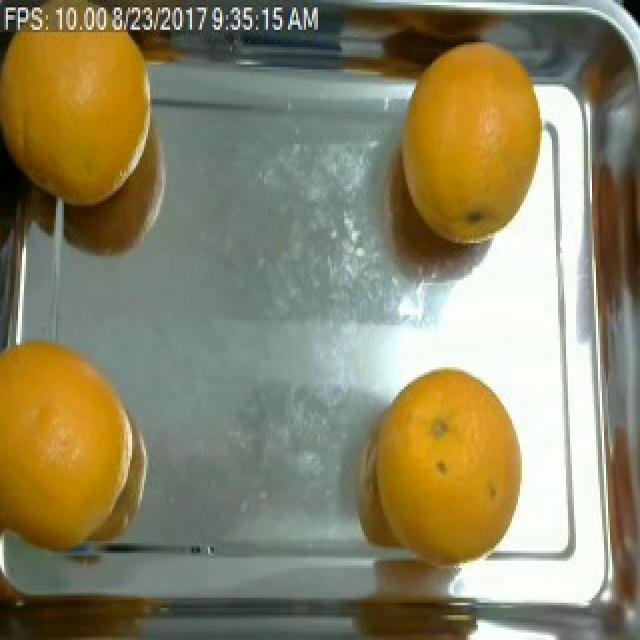Fruit: (382, 18, 552, 238), (0, 10, 154, 236), (344, 575, 490, 640)
